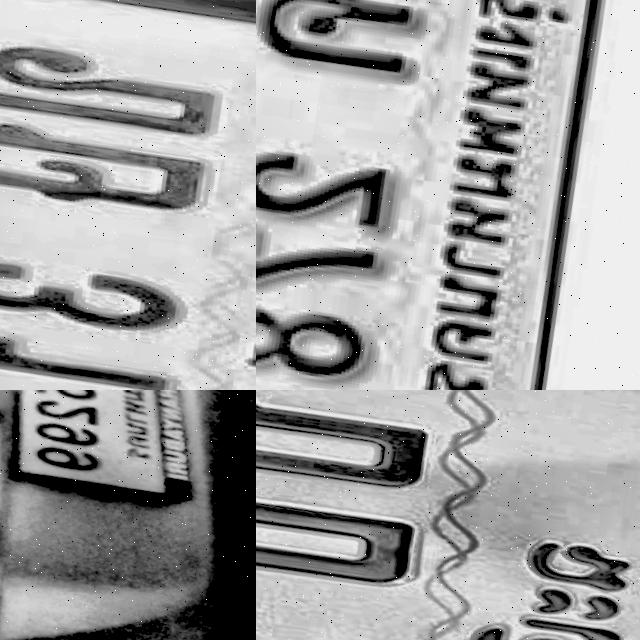license-plate: (256, 0, 640, 390), (0, 0, 256, 390), (256, 390, 640, 640), (18, 390, 163, 501)
